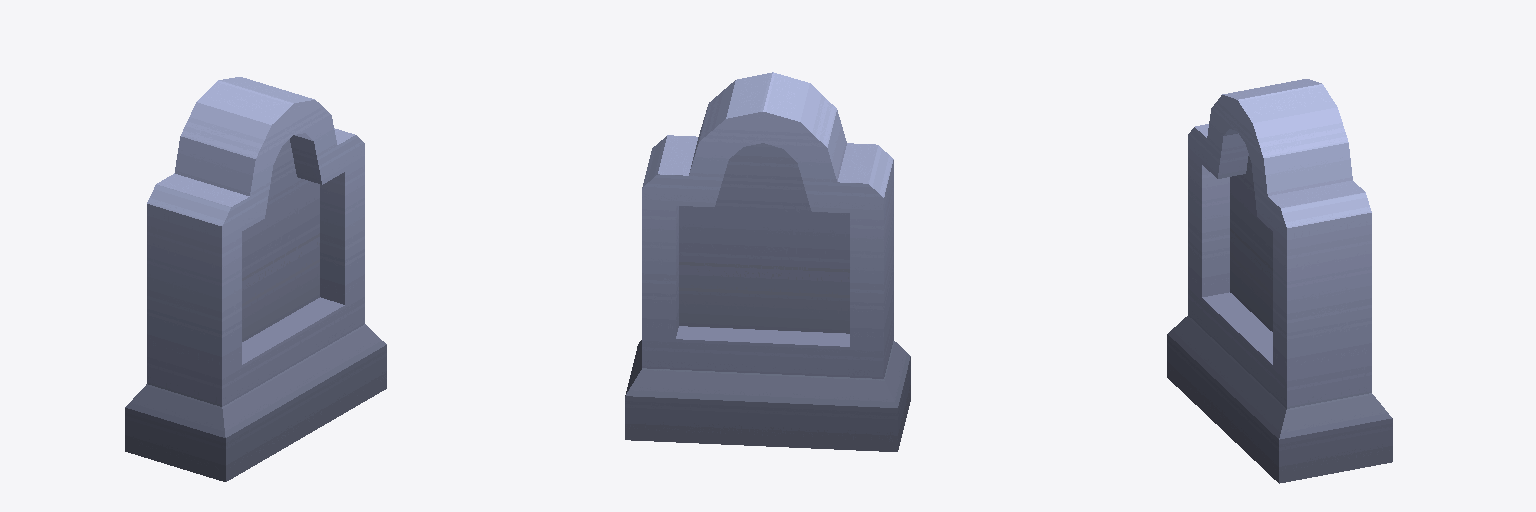
3 views of the same model, side by side, from view 1: azimuth 30°, elevation 25°; view 2: azimuth 150°, elevation 25°; view 3: azimuth 270°, elevation 25° (orthographic).
Parts seen in each view (by area): view 1: Gravestone_Bevel_2; view 2: Gravestone_Bevel_2; view 3: Gravestone_Bevel_2.
Boxes of the visible parts, x1,y1,x2,y2 form: Gravestone_Bevel_2: [125, 77, 386, 481]; Gravestone_Bevel_2: [625, 72, 910, 451]; Gravestone_Bevel_2: [1167, 79, 1392, 483].
Size of the model in its own units: 0.5923 by 0.7127 by 0.4429.
1 materials, 1 textured.